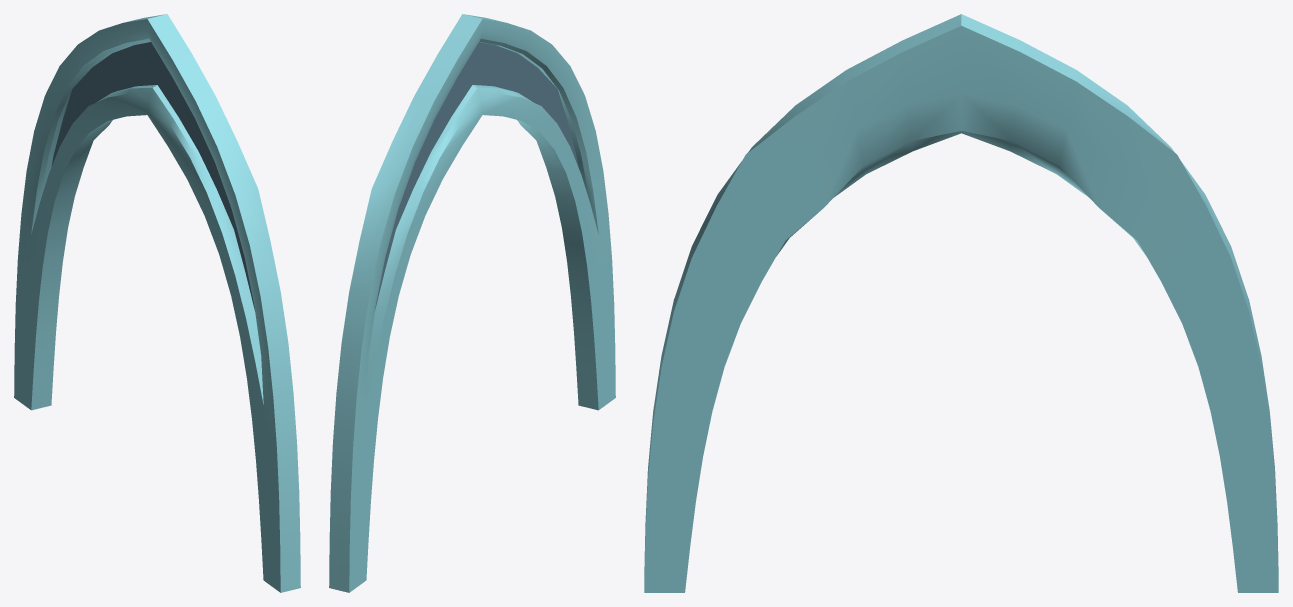
File: frame_thing_idk 1.fbx
The picture shows the model from 3 angles, left to right: view 1: azimuth 30°, elevation 25°; view 2: azimuth 150°, elevation 25°; view 3: azimuth 270°, elevation 25°; orthographic projection. The views are drawn at different scales.
Visible parts, largest first — view 1: WindoW.b.004; view 2: WindoW.b.004; view 3: WindoW.b.004.
Boxes of the visible parts, box(x1,y1,x2,y2) form: WindoW.b.004: box(14, 14, 300, 592); WindoW.b.004: box(329, 14, 615, 592); WindoW.b.004: box(644, 14, 1278, 592).
Size of the model in its own units: 60.1 by 1357 by 1376.
